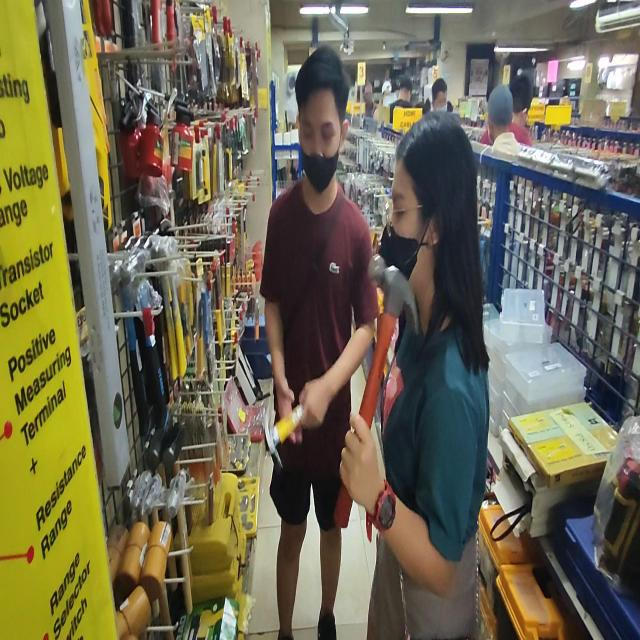hammer: (333, 254, 419, 527), (263, 404, 305, 474)
